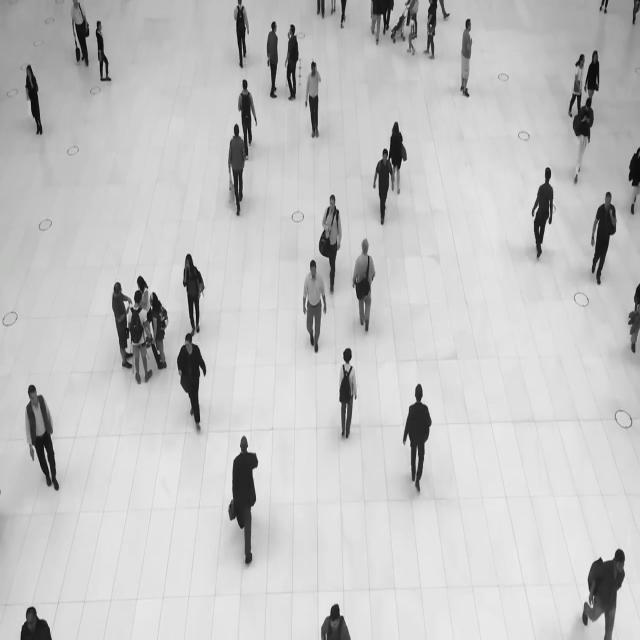Persona: (19, 376, 68, 508), (222, 421, 265, 570), (578, 528, 630, 640), (397, 362, 438, 500), (174, 326, 214, 444), (294, 248, 332, 369), (588, 181, 622, 303), (332, 340, 366, 456), (526, 156, 561, 267), (178, 239, 216, 333), (349, 229, 382, 336), (224, 114, 253, 230), (103, 262, 132, 378), (570, 89, 605, 183), (129, 284, 158, 396), (18, 52, 52, 147), (318, 183, 344, 303), (371, 135, 401, 234), (454, 11, 483, 111), (235, 69, 266, 150), (62, 0, 94, 78), (91, 13, 120, 97), (226, 0, 256, 76), (386, 113, 412, 199), (262, 6, 284, 107), (281, 21, 304, 110), (303, 52, 325, 144), (564, 44, 588, 120), (587, 43, 606, 122)
